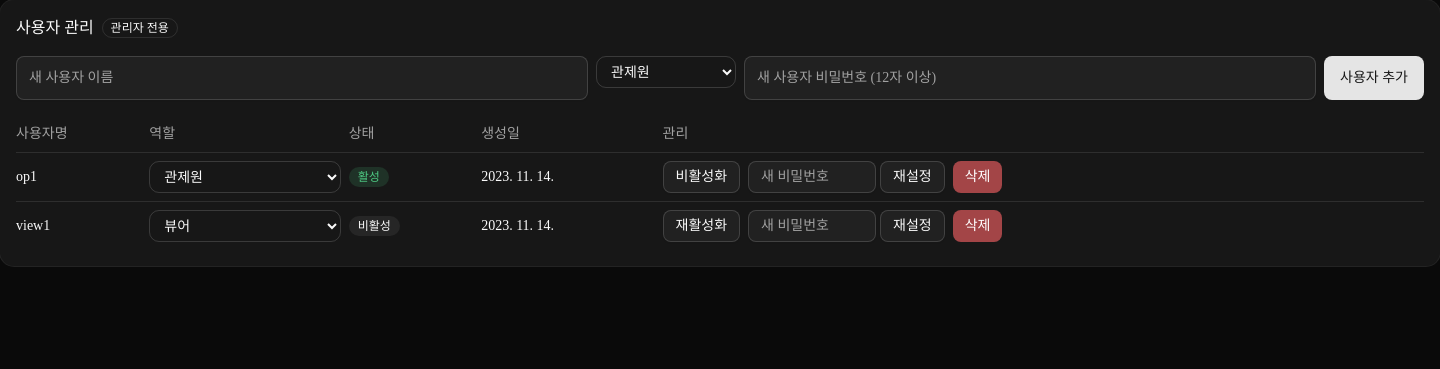
it: UserManagement › submits a create request and refreshes on success
In the field labelled "새 사용자 이름": (302, 78) x1=16 y1=56 x2=588 y2=100, type "op2"
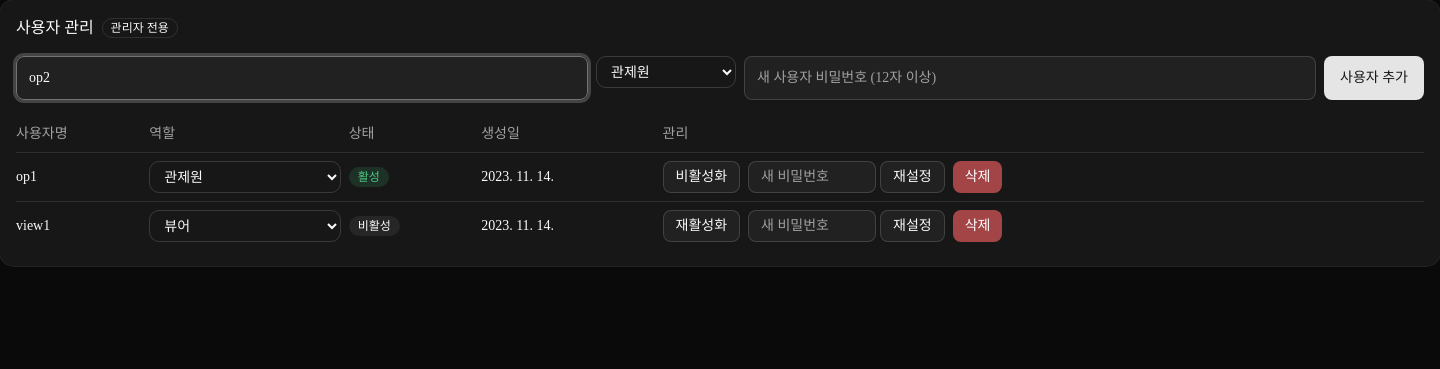
Select "뷰어" in the dropdown named "새 사용자 역할": (666, 72) x1=596 y1=56 x2=736 y2=88
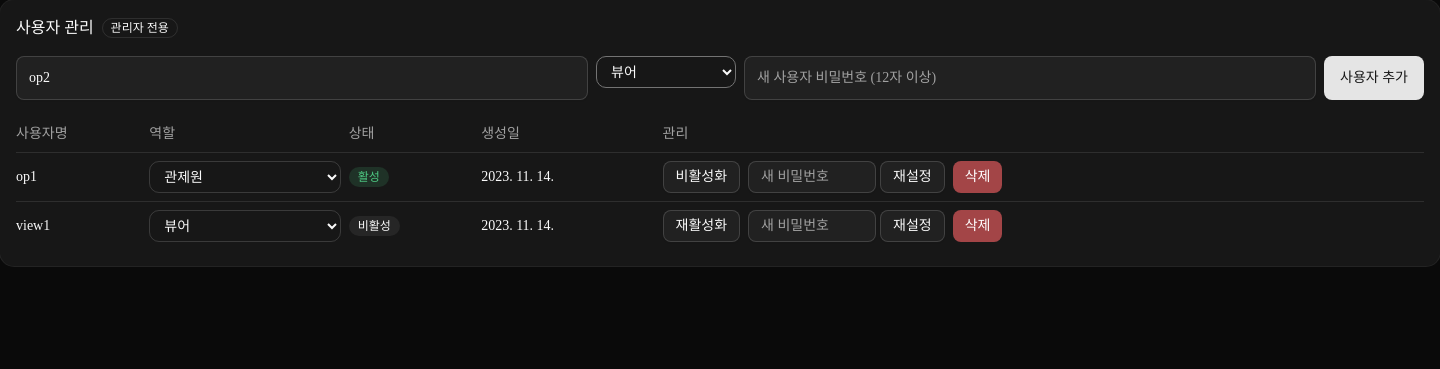
In the password field labelled "새 사용자 비밀번호": (1030, 78) x1=744 y1=56 x2=1316 y2=100, type "new-password-123"
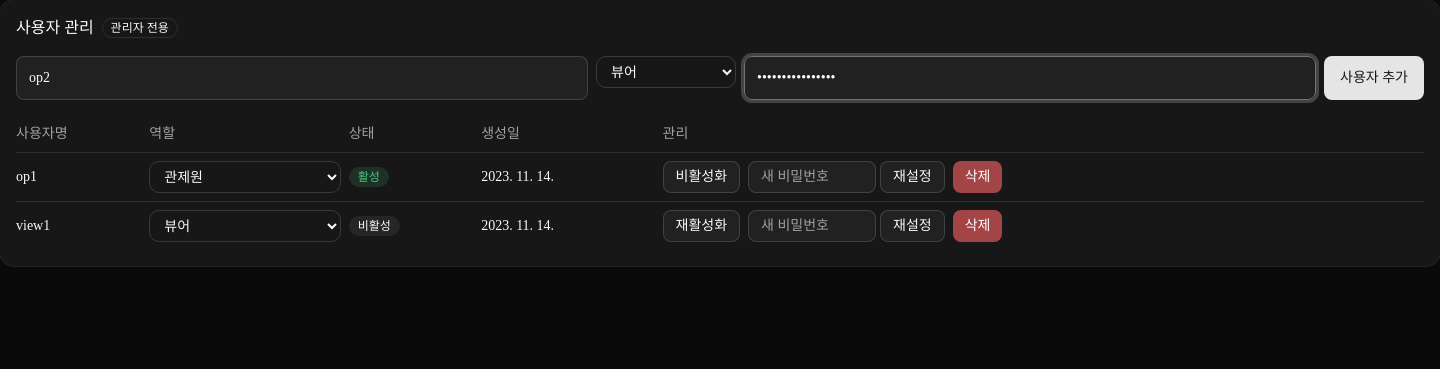
Click the button "사용자 추가": (1374, 78) x1=1324 y1=56 x2=1424 y2=100
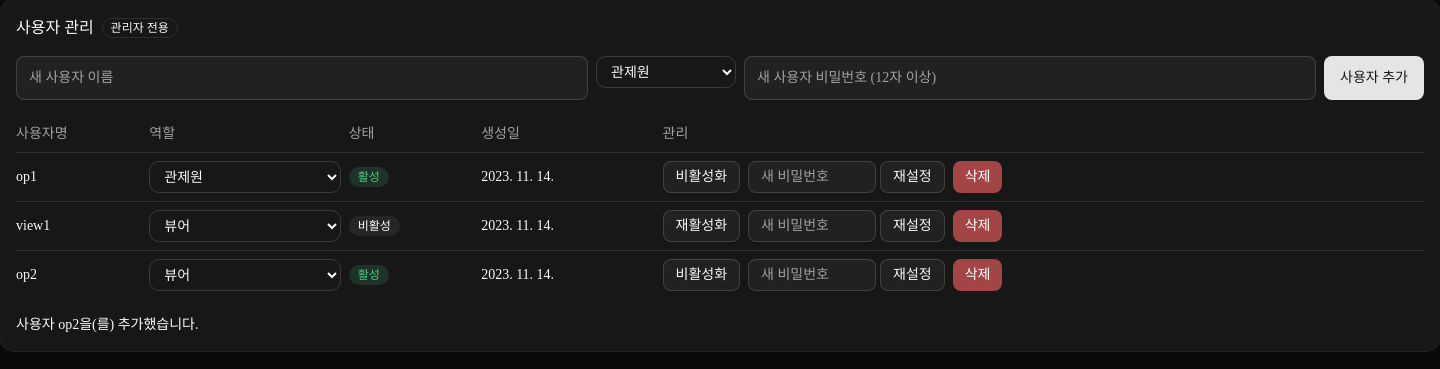
Expected: the message shows "op2", x1=16 y1=317 x2=198 y2=332
